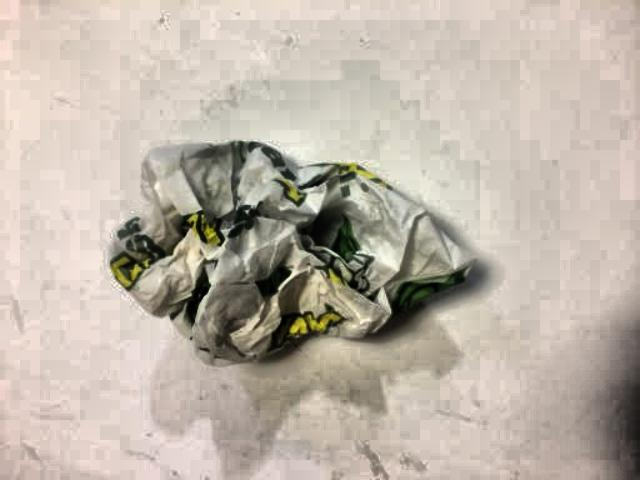Paper: (80, 105, 521, 395)
